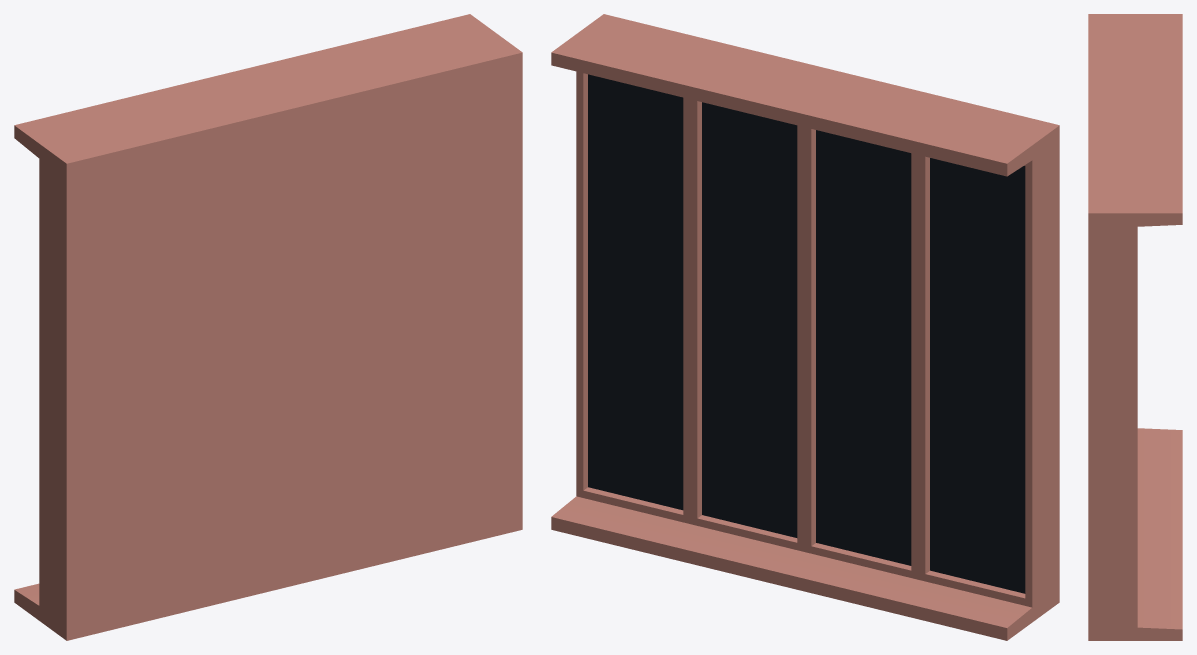
File: BasicWallGlass_5x5.fbx
3 views of the same model, side by side, from view 1: azimuth 30°, elevation 25°; view 2: azimuth 150°, elevation 25°; view 3: azimuth 270°, elevation 25° (orthographic). The views are drawn at different scales.
Visible parts, largest first — view 1: BasicWall1Glassx5.032; view 2: BasicWall1Glassx5.032; view 3: BasicWall1Glassx5.032.
Boxes of the visible parts, left/top/right/bottom form: BasicWall1Glassx5.032: left=14, top=14, right=522, bottom=640; BasicWall1Glassx5.032: left=551, top=14, right=1059, bottom=640; BasicWall1Glassx5.032: left=1088, top=14, right=1182, bottom=640.
Bounding box in the file's own units: 500 × 500 × 100.
